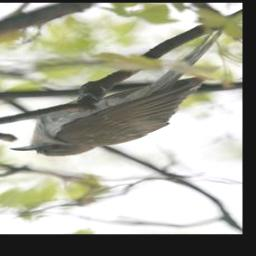Cuckoo: (10, 27, 226, 157)
